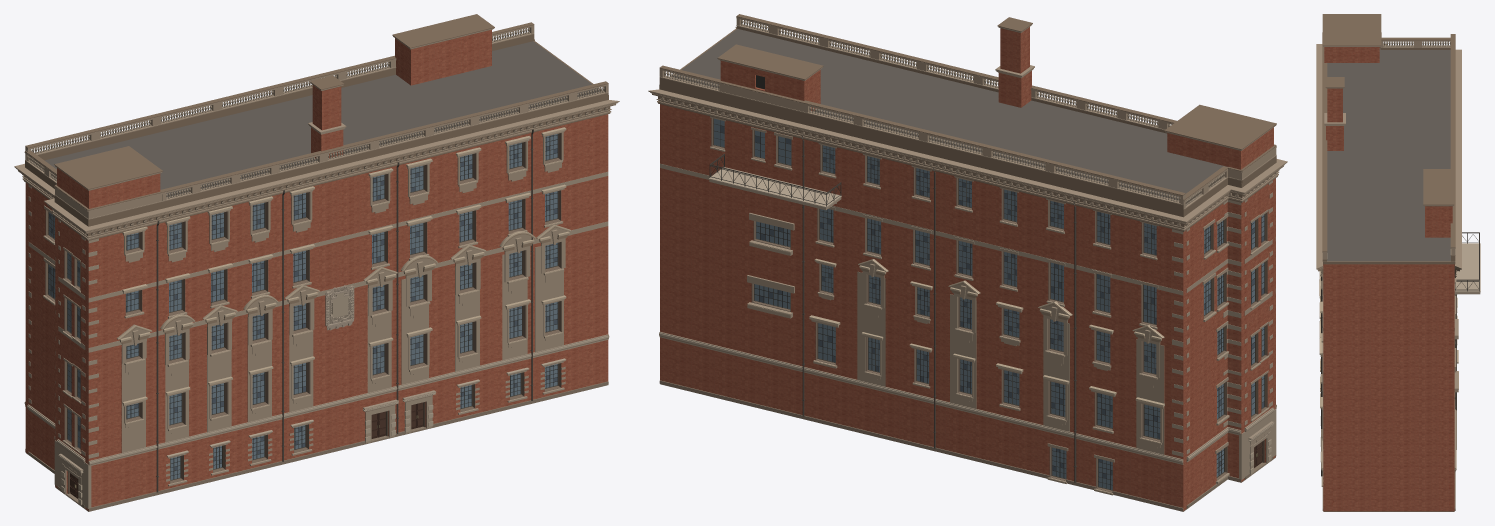
The model's file is hongkou-general-hospital-1914-kitchen-block-web.glb.
3 renders of one model, left to right at view 1: azimuth 30°, elevation 25°; view 2: azimuth 150°, elevation 25°; view 3: azimuth 270°, elevation 25°, orthographic. The views are drawn at different scales.
Visible parts, largest first — view 1: 公济医院旧楼东部（1914年后勤楼）; view 2: 公济医院旧楼东部（1914年后勤楼）; view 3: 公济医院旧楼东部（1914年后勤楼）.
Boxes of the visible parts, left/top/right/bottom form: 公济医院旧楼东部（1914年后勤楼）: left=14, top=14, right=619, bottom=511; 公济医院旧楼东部（1914年后勤楼）: left=648, top=14, right=1287, bottom=511; 公济医院旧楼东部（1914年后勤楼）: left=1316, top=14, right=1480, bottom=511.
Bounding box in the file's own units: 45.85 × 29.91 × 14.19.
27 materials, 1 textured.
